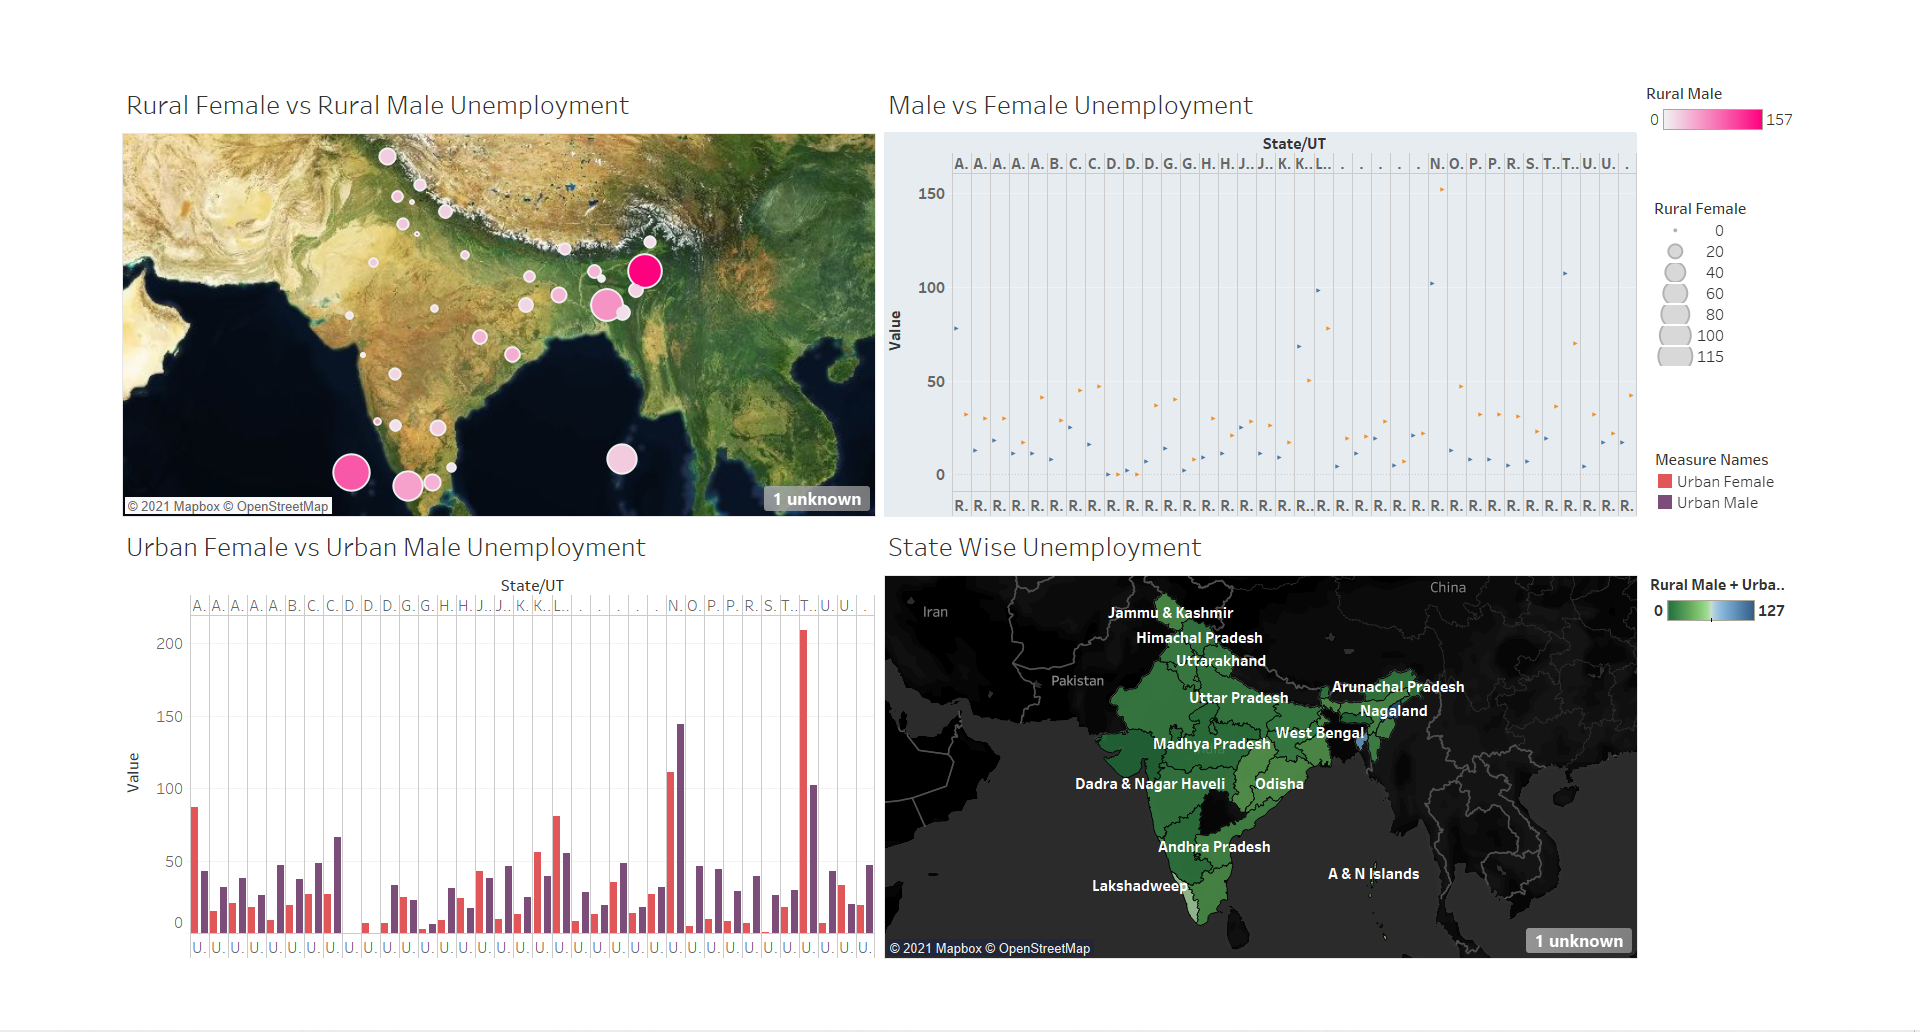

The dashboard page shown, as its layout file describes it:
{"tool":"tableau","page":{"name":"Unemployment Dashboard","canvas":[1700,900],"ordinal":0},"visuals":[{"type":"worksheet","box":[0,0,1700,900]},{"type":"worksheet","param":"horz","box":[8,8,1684,884]},{"type":"worksheet","box":[8,8,1524,884]},{"type":"worksheet","title":"Rural Female vs Rural Male Unemployment","mark":"Automatic","box":[8,8,762,442]},{"type":"worksheet","title":"Male vs Female Unemployment","mark":"Shape","cols":["State/UT"],"box":[770,8,762,442]},{"type":"worksheet","param":"vert","box":[1532,8,160,884]},{"type":"worksheet","title":"Rural Female vs Rural Male Unemployment","mark":"Automatic","param":"[federated.1pd5ysd0o77phg1fyh6210v14n7w].[sum:Rural Male:qk]","box":[1532,8,160,73]},{"type":"worksheet","title":"Rural Female vs Rural Male Unemployment","mark":"Automatic","param":"[federated.1pd5ysd0o77phg1fyh6210v14n7w].[sum:Rural Female:qk]","box":[1544,127,140,169]},{"type":"worksheet","title":"Urban Female vs Urban Male Unemployment","mark":"Automatic","cols":["State/UT"],"param":"[federated.1pd5ysd0o77phg1fyh6210v14n7w].[:Measure Names]","box":[1545,378,140,64]},{"type":"worksheet","title":"Urban Female vs Urban Male Unemployment","mark":"Automatic","cols":["State/UT"],"box":[8,450,762,442]},{"type":"worksheet","title":"State Wise Unemployment","mark":"Automatic","box":[770,450,762,442]},{"type":"worksheet","title":"State Wise Unemployment","mark":"Automatic","param":"[federated.1pd5ysd0o77phg1fyh6210v14n7w].[sum:Rural Male + Urban Male + Rural Fe","box":[1540,503,140,88]}]}

Visuals, with their boxes in screenshot pixels (x1, y1, x2, y2), scaled from the page's 1700x900 canvas onto the 1920x1032 screenshot:
worksheet: region(0, 0, 1919, 1031)
worksheet: region(9, 9, 1911, 1023)
worksheet: region(9, 9, 1730, 1023)
"Rural Female vs Rural Male Unemployment" worksheet: region(9, 9, 870, 516)
"Male vs Female Unemployment" worksheet (Shape marks): region(870, 9, 1730, 516)
worksheet: region(1730, 9, 1911, 1023)
"Rural Female vs Rural Male Unemployment" worksheet: region(1730, 9, 1911, 93)
"Rural Female vs Rural Male Unemployment" worksheet: region(1744, 146, 1902, 339)
"Urban Female vs Urban Male Unemployment" worksheet: region(1745, 433, 1903, 507)
"Urban Female vs Urban Male Unemployment" worksheet: region(9, 516, 870, 1023)
"State Wise Unemployment" worksheet: region(870, 516, 1730, 1023)
"State Wise Unemployment" worksheet: region(1739, 577, 1897, 678)
